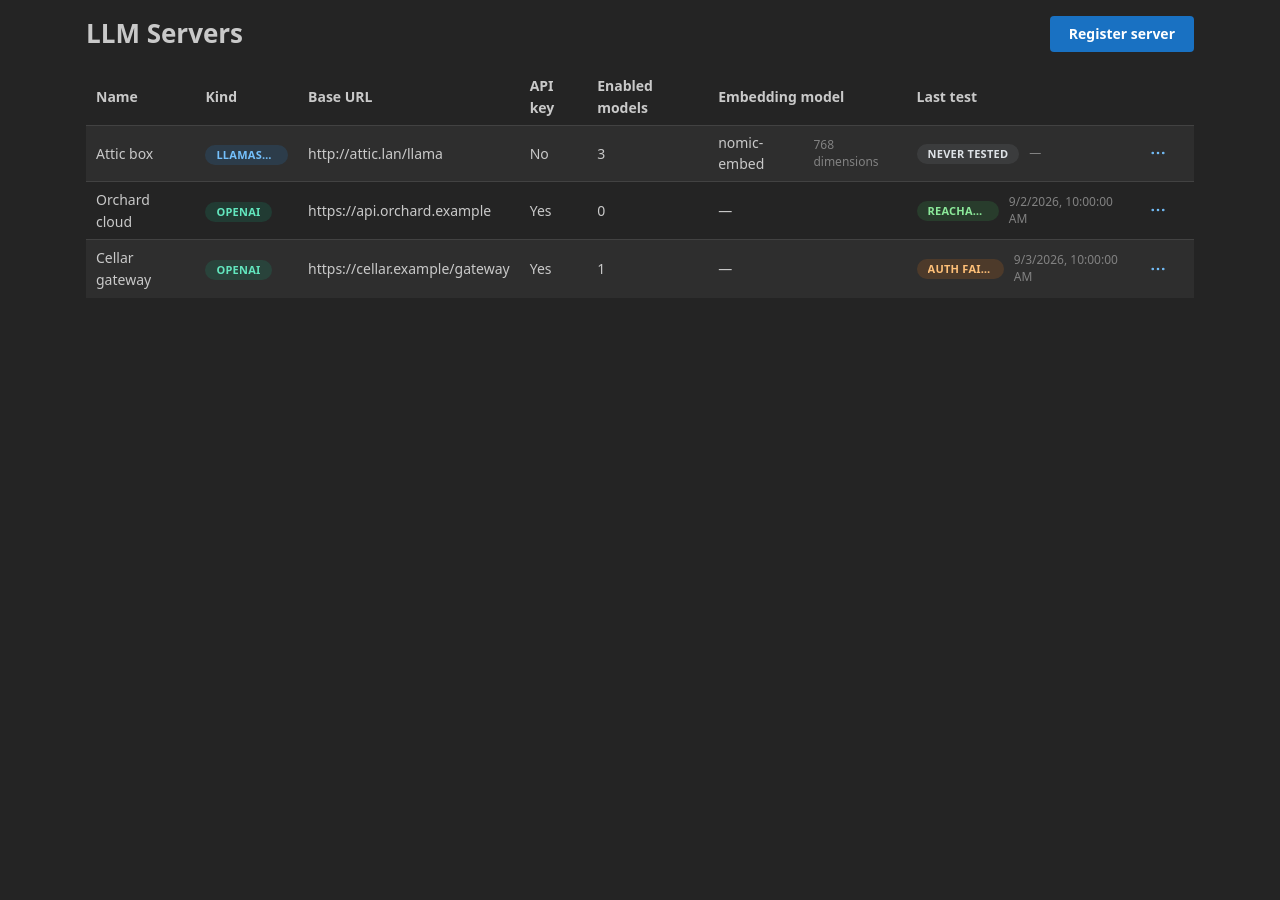
Test: delete is confirmed › after confirming the confirm closes and the row is gone — DoD-10
The image size is (1280, 900).
Click the submit button at (1158, 210), box x1=1144 y1=196 x2=1172 y2=224
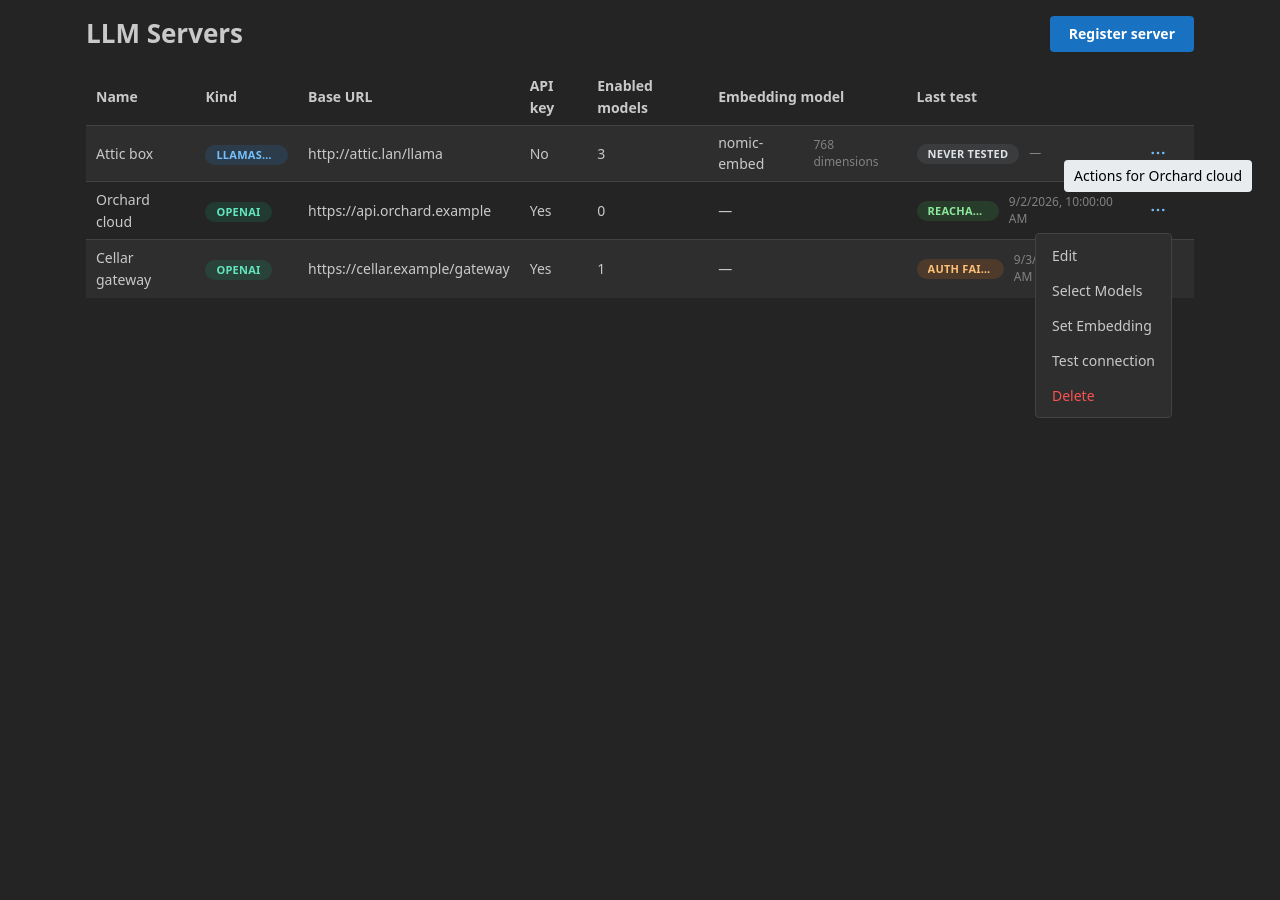
Click the menu item "Delete" at (1104, 396), box x1=1040 y1=378 x2=1167 y2=413
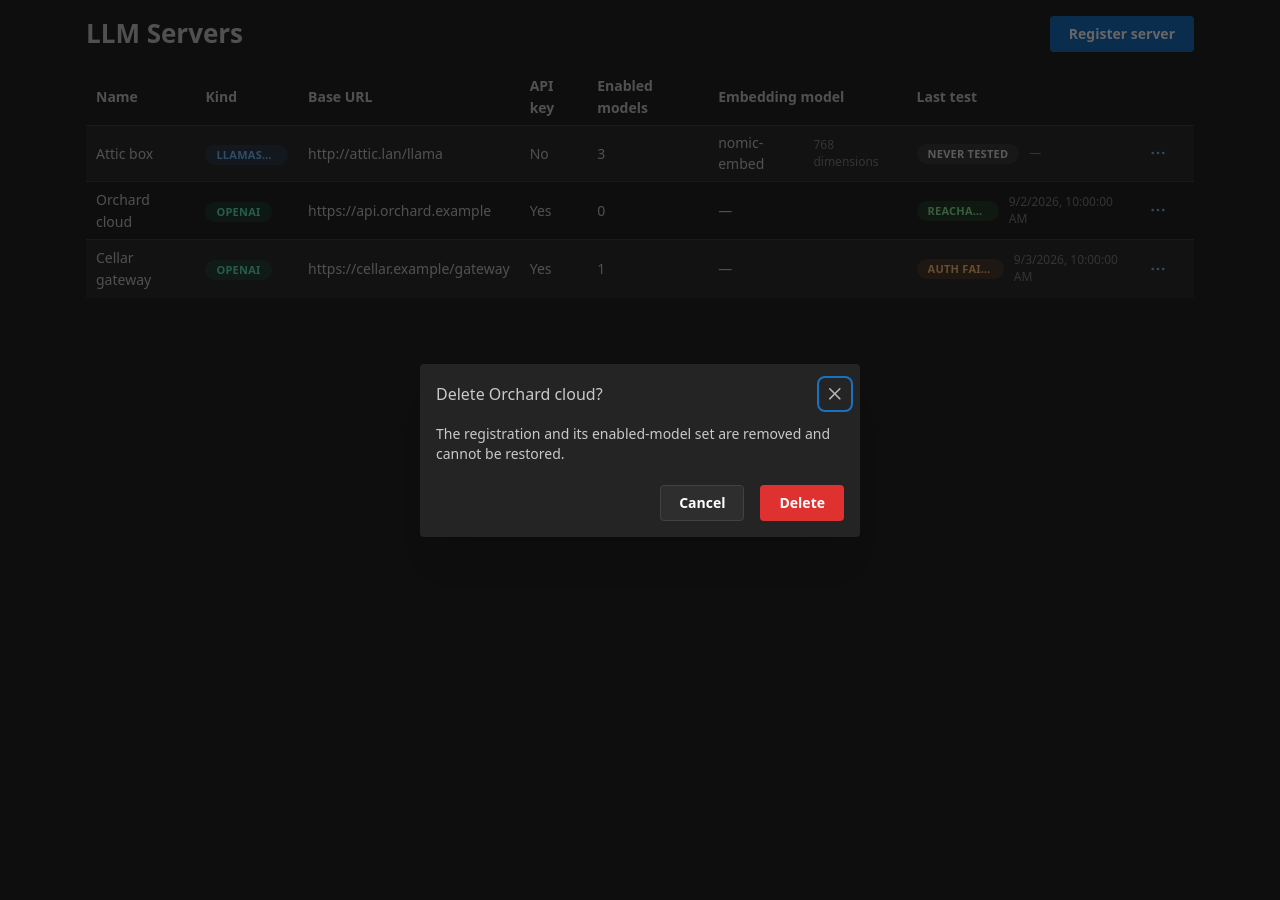
Click the button "Delete" at (802, 502), box x1=760 y1=484 x2=844 y2=520
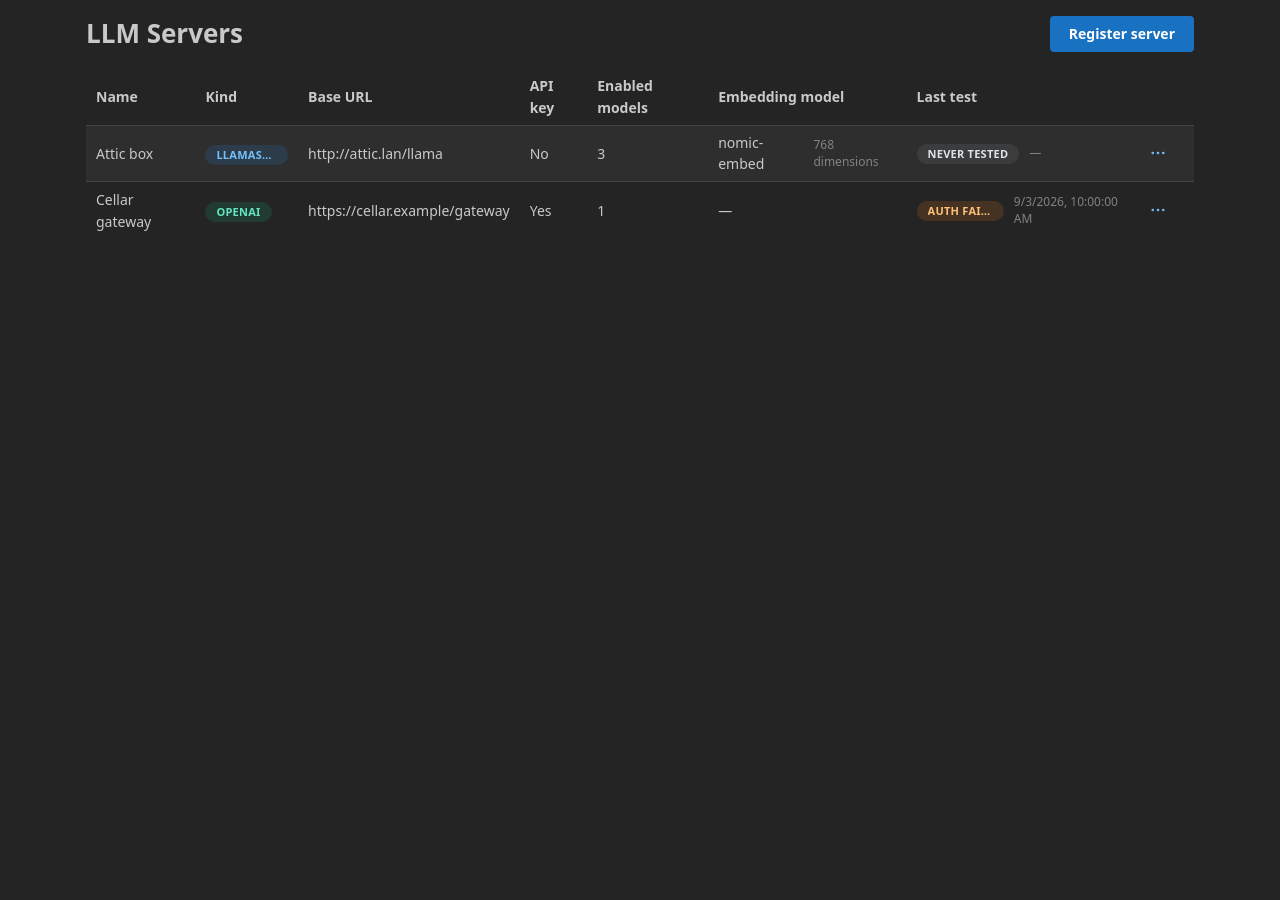
Expected: the dialog is gone
